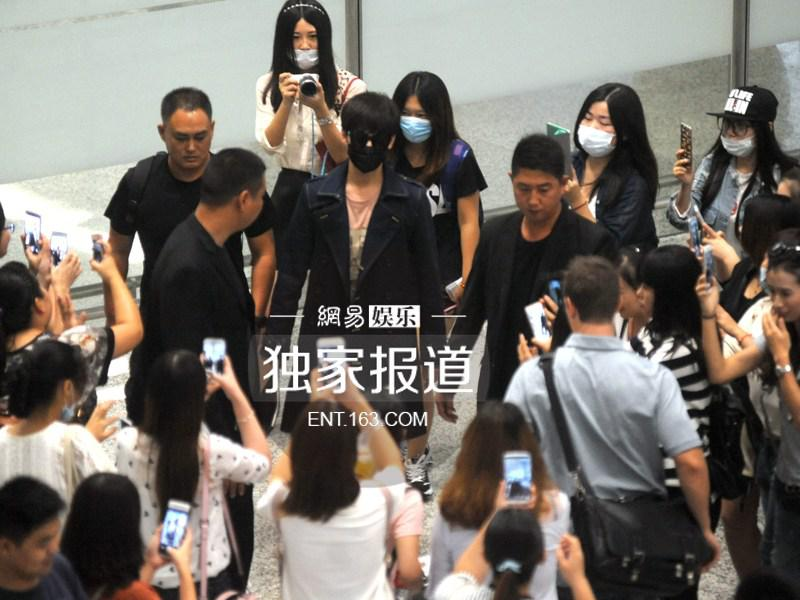NONE: (9, 513, 64, 580), (516, 178, 559, 223), (172, 125, 211, 172), (236, 176, 266, 232), (768, 276, 800, 325), (635, 276, 661, 321)
OK: (346, 126, 391, 172), (399, 103, 435, 144)
WRONG: (576, 107, 622, 159), (288, 29, 326, 67), (722, 116, 756, 157)
